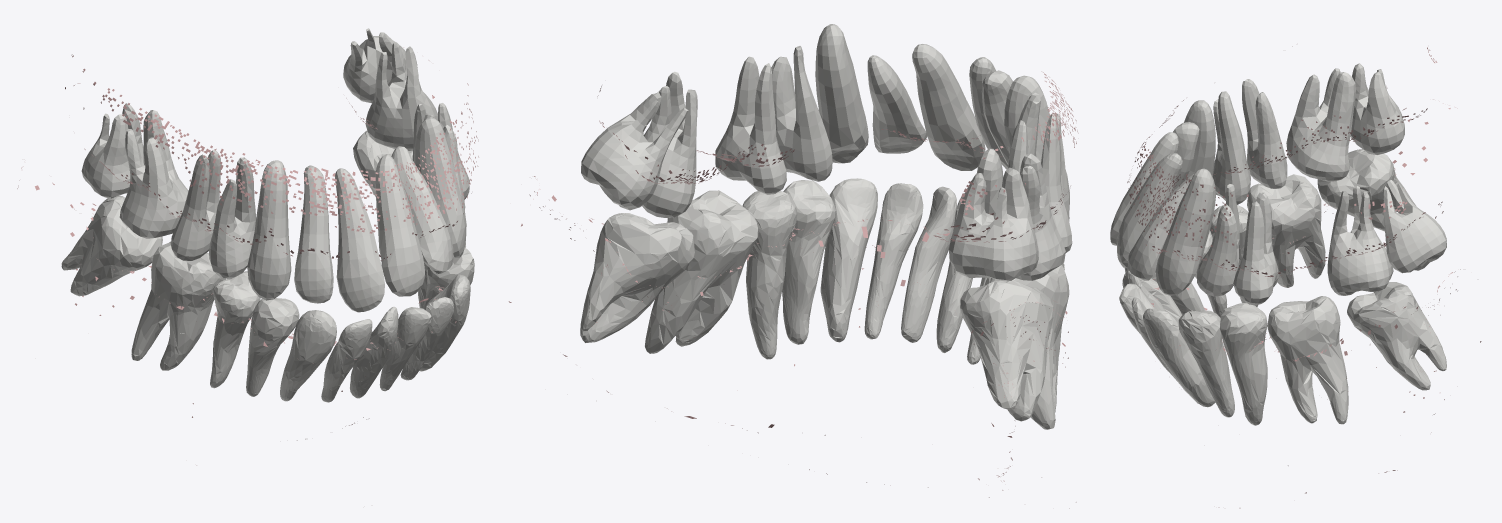
The model's file is jaw-arch.glb.
3 renders of one model, left to right at view 1: azimuth 30°, elevation 25°; view 2: azimuth 150°, elevation 25°; view 3: azimuth 270°, elevation 25°, orthographic. The views are drawn at different scales.
Visible parts, largest first — view 1: tooth_46, gum_upper, tooth_16, tooth_47, tooth_11, tooth_21, tooth_26, tooth_13, tooth_14, tooth_12, tooth_23, tooth_15 (+15 smaller); view 2: tooth_36, tooth_37, tooth_47, tooth_17, tooth_27, tooth_25, tooth_33, tooth_35, tooth_21, tooth_34, tooth_24, tooth_23 (+14 smaller); view 3: tooth_36, tooth_16, tooth_37, tooth_46, tooth_26, tooth_23, tooth_35, tooth_27, tooth_17, tooth_25, tooth_15, tooth_34 (+18 smaller).
Boxes of the visible parts, x1,y1,x2,y2 form: tooth_46: (131, 241, 225, 370); gum_upper: (65, 54, 478, 260); tooth_16: (119, 110, 188, 238); tooth_47: (61, 195, 162, 296); tooth_11: (335, 168, 384, 312); tooth_21: (375, 154, 425, 296); tooth_26: (365, 42, 437, 150); tooth_13: (247, 160, 291, 300); tooth_14: (209, 157, 256, 278); tooth_12: (294, 165, 333, 303); tooth_23: (414, 117, 466, 257); tooth_15: (170, 150, 221, 260); tooth_36: (645, 190, 758, 353); tooth_37: (580, 213, 694, 342); tooth_47: (960, 280, 1053, 421); tooth_17: (949, 167, 1038, 280); tooth_27: (581, 92, 688, 210); tooth_25: (715, 56, 786, 194); tooth_33: (820, 178, 877, 342); tooth_35: (742, 191, 797, 359); tooth_21: (912, 44, 985, 170); tooth_34: (782, 180, 836, 344); tooth_24: (771, 46, 832, 181); tooth_23: (815, 24, 868, 163); tooth_36: (1267, 296, 1348, 424); tooth_16: (1286, 68, 1355, 181); tooth_37: (1347, 282, 1446, 390); tooth_46: (1247, 174, 1325, 287); tooth_26: (1327, 185, 1393, 295); tooth_23: (1155, 168, 1215, 295); tooth_35: (1220, 302, 1267, 425); tooth_27: (1383, 180, 1446, 273); tooth_17: (1350, 63, 1404, 154); tooth_25: (1233, 192, 1278, 305); tooth_15: (1242, 79, 1287, 188); tooth_34: (1178, 310, 1234, 417).
Bounding box in the file's own units: 12 × 10.44 × 9.19.
